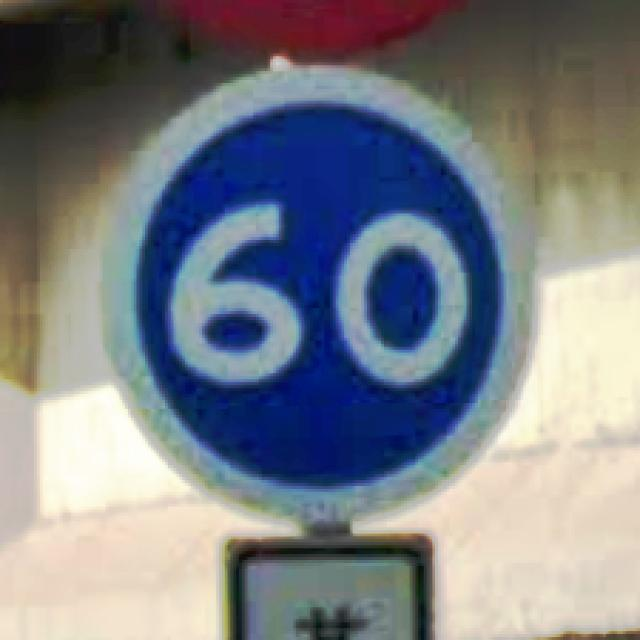min60: (94, 54, 537, 528)
